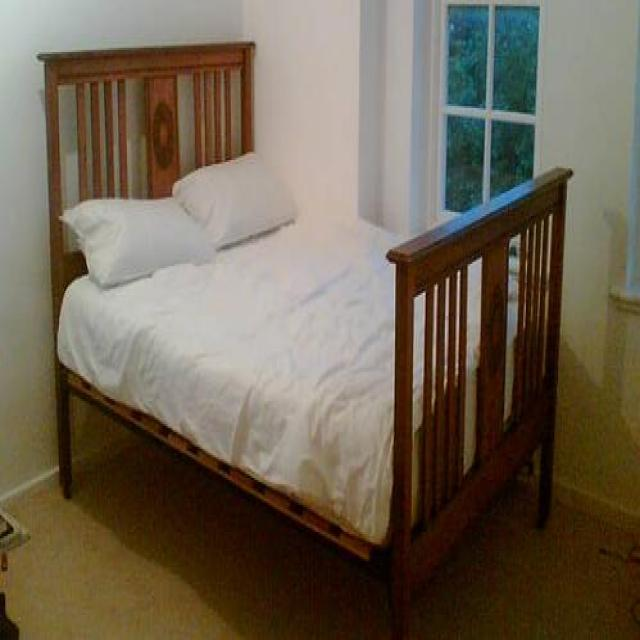bed: (36, 40, 574, 640)
